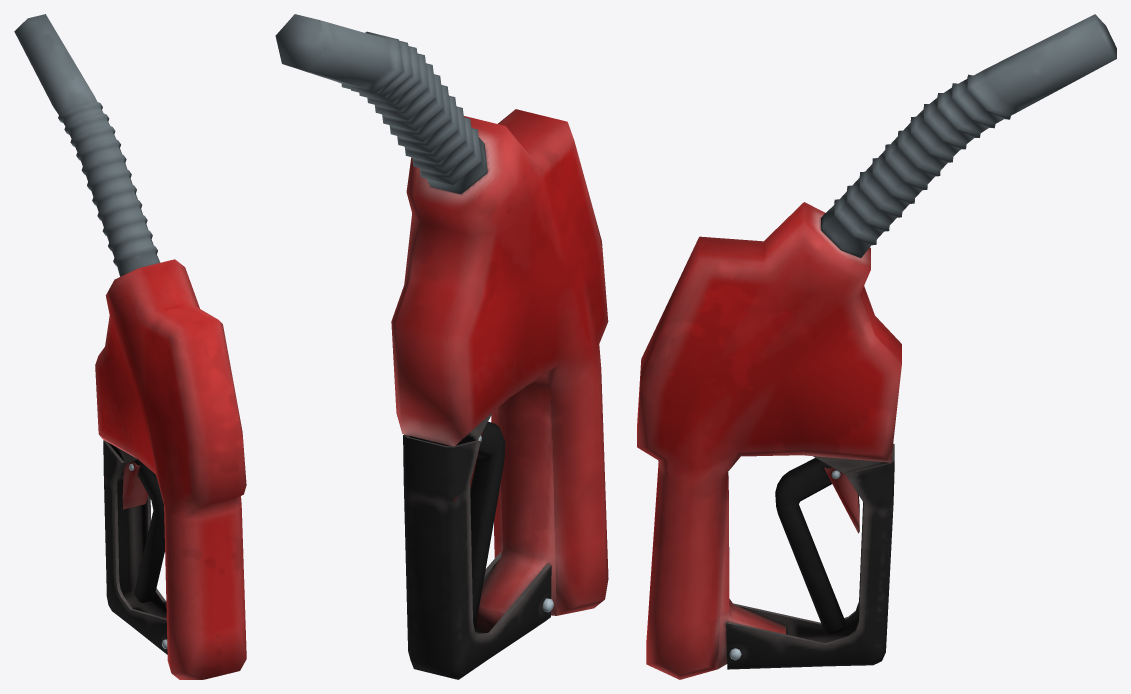
The model's file is Gas _Pump_Handler.glb.
3 views of the same model, side by side, from view 1: azimuth 30°, elevation 25°; view 2: azimuth 150°, elevation 25°; view 3: azimuth 270°, elevation 25° (orthographic). The views are drawn at different scales.
Parts seen in each view (by area): view 1: Gas _Pump_Handler.001; view 2: Gas _Pump_Handler.001; view 3: Gas _Pump_Handler.001.
Part boxes in pixels (x1,y1,x2,y2): Gas _Pump_Handler.001: (14, 14, 246, 679); Gas _Pump_Handler.001: (275, 14, 608, 679); Gas _Pump_Handler.001: (637, 14, 1116, 679).
Size of the model in its own units: 0.0546 by 0.3797 by 0.2566.
1 material, 1 textured.
